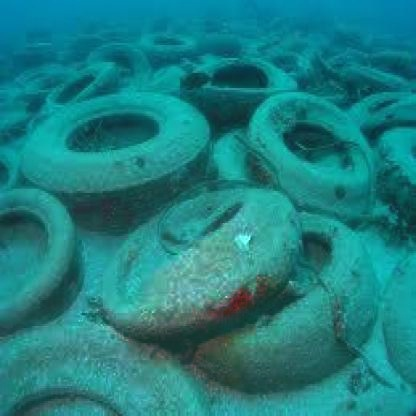tire: (100, 167, 302, 315), (242, 189, 386, 390), (256, 71, 395, 221), (46, 88, 200, 223), (2, 188, 82, 336), (181, 34, 286, 120)
